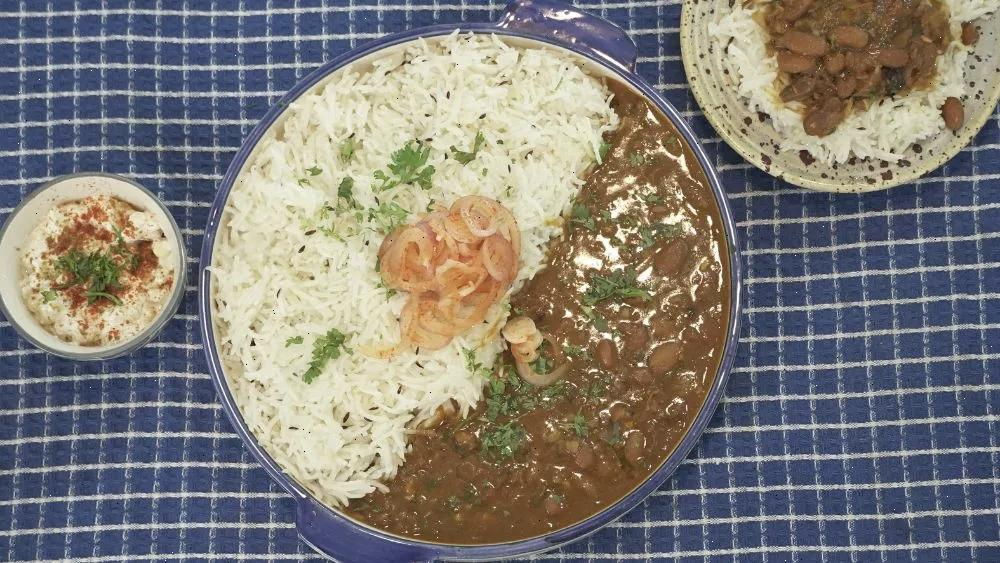rajma: (534, 289, 731, 504)
rice: (253, 53, 524, 344)
